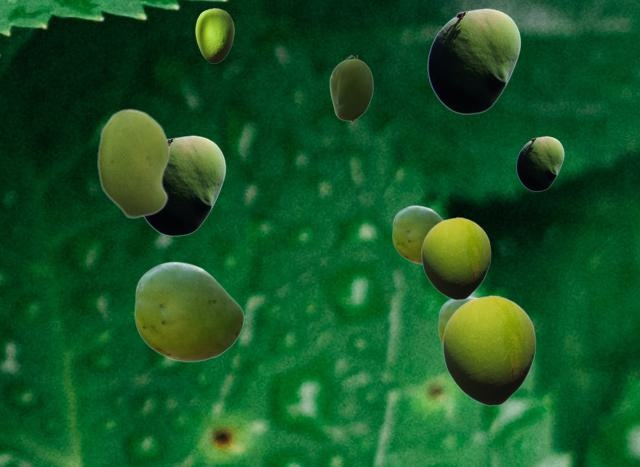green_mango: (134, 261, 243, 361), (442, 295, 535, 405), (427, 8, 520, 113), (144, 135, 225, 235), (97, 108, 169, 218), (421, 217, 490, 299), (392, 205, 443, 263), (329, 55, 372, 123), (516, 136, 563, 190), (195, 8, 233, 62), (438, 296, 475, 342)
